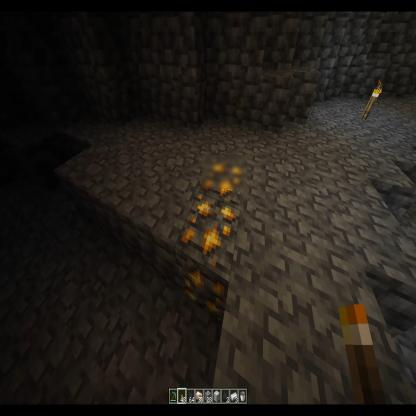gold ore: (179, 189, 240, 323), (202, 156, 247, 206)
